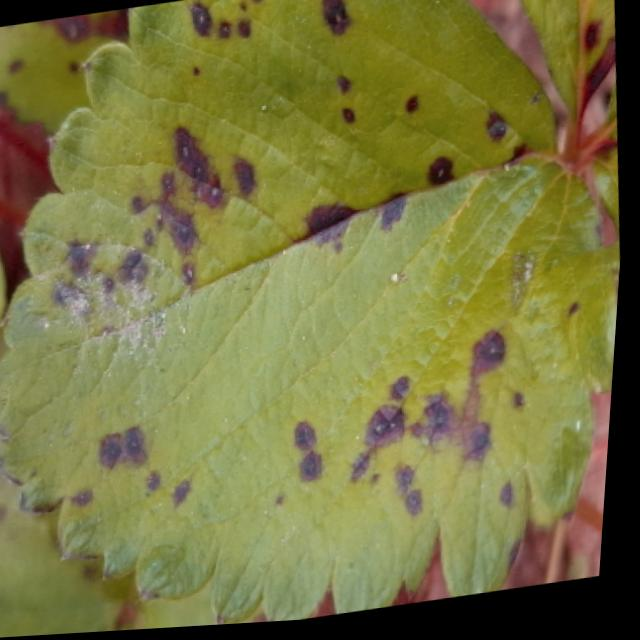Leaf Spot: (0, 0, 624, 628), (0, 465, 142, 638), (0, 10, 128, 135), (515, 0, 617, 147), (125, 583, 220, 633)
